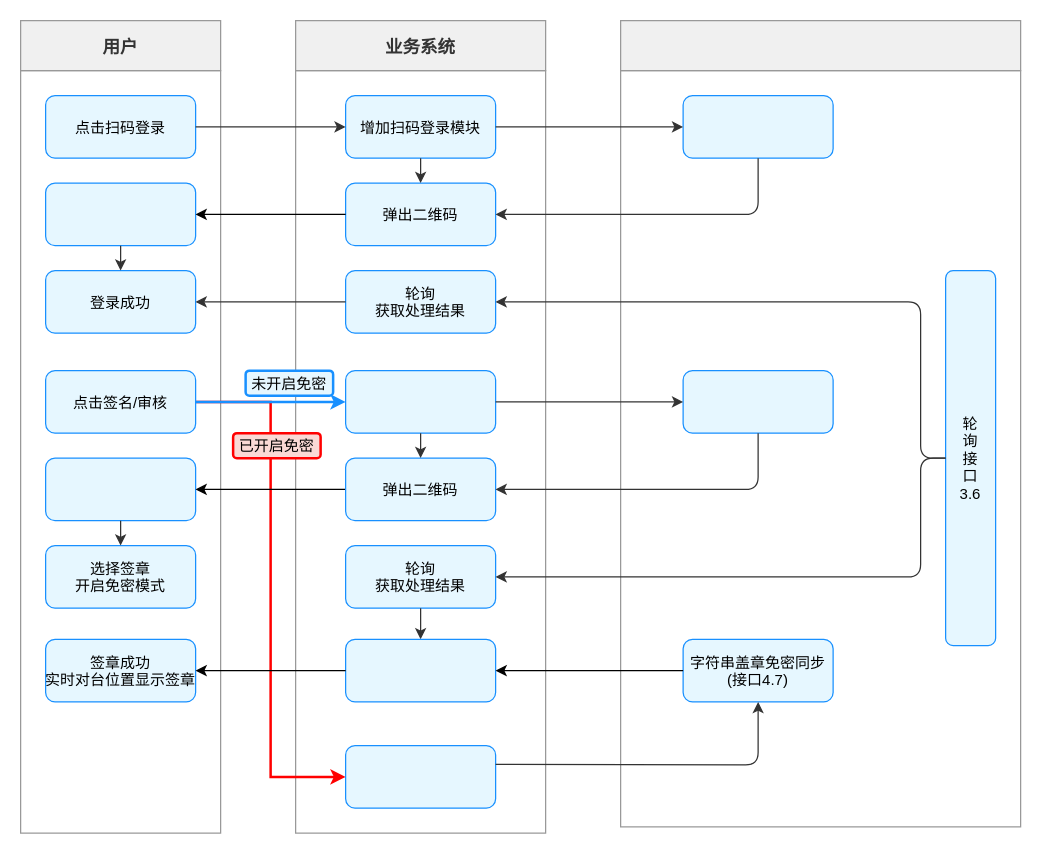
Some shapes in this 1041 by 854 pixel diagram are drawn without their labels. The shapes that lost their labels are listed below. From the top down, each one's centre as x and y in pixels, then its label:
At pixel 820 45: "CA".
At pixel 757 126: "扫码登录 (接口3.4)".
At pixel 120 214: "添证签小程序扫码".
At pixel 420 401: "调用扫码签章 (接口4.2)".
At pixel 757 401: "扫码签章 (接口4.2)".
At pixel 120 489: "医证签小程序扫码".
At pixel 420 670: "获取签章图片".
At pixel 420 776: "调用免密签章".
